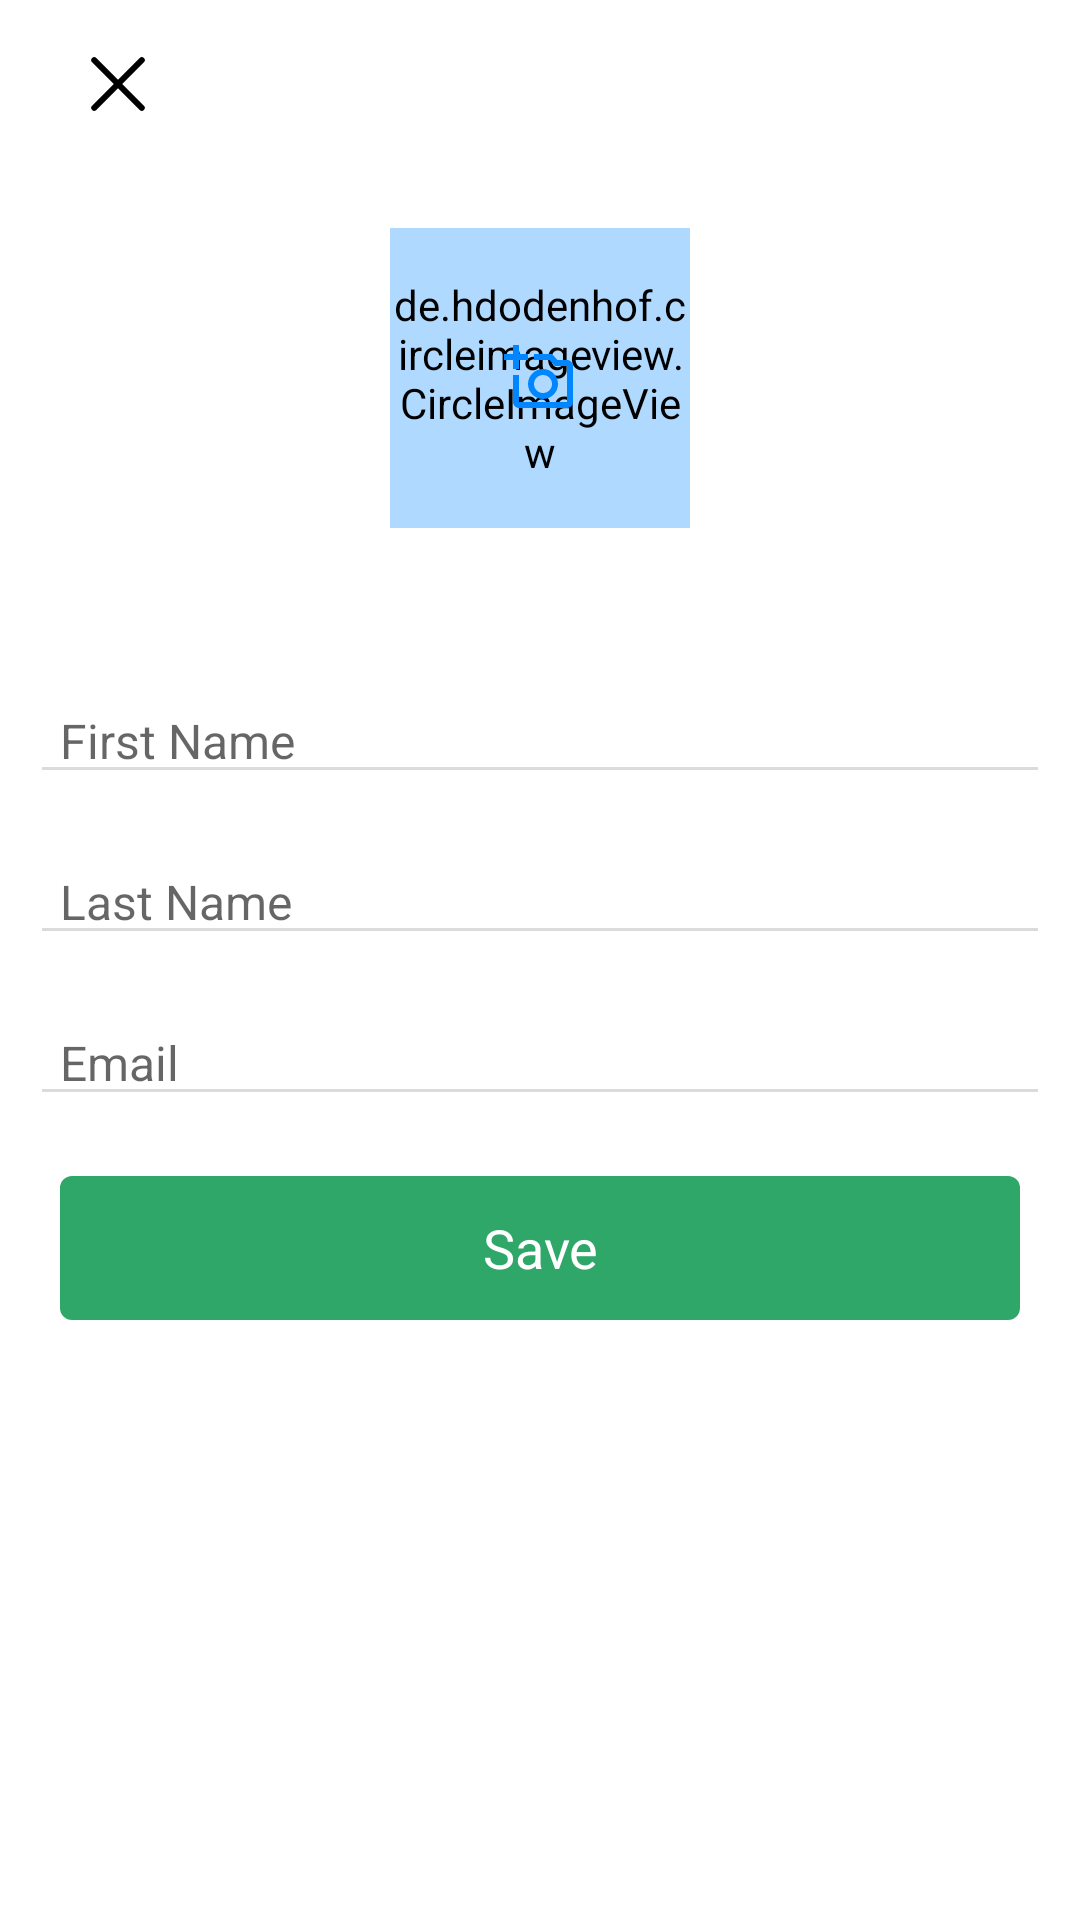

Point at icon controls on the screen. Image size 1080px x 1920px, points as [x,y].
add photo: [540,379]
cancel: [118,84]
